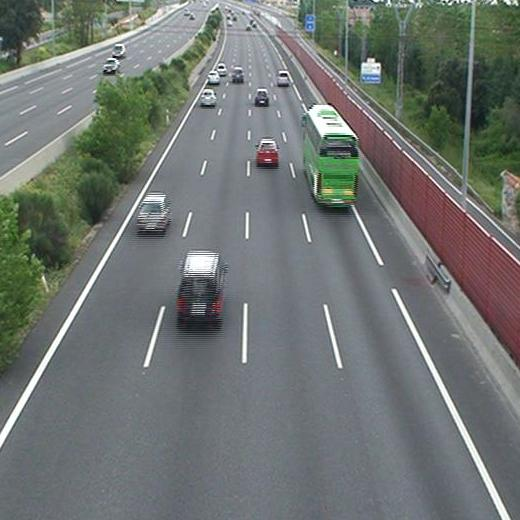bus: (302, 106, 359, 206)
car: (176, 252, 224, 321), (138, 195, 170, 230), (256, 140, 279, 164), (200, 90, 217, 106), (255, 89, 269, 104), (278, 71, 290, 86), (207, 72, 220, 85), (232, 68, 243, 81), (216, 63, 226, 75)
